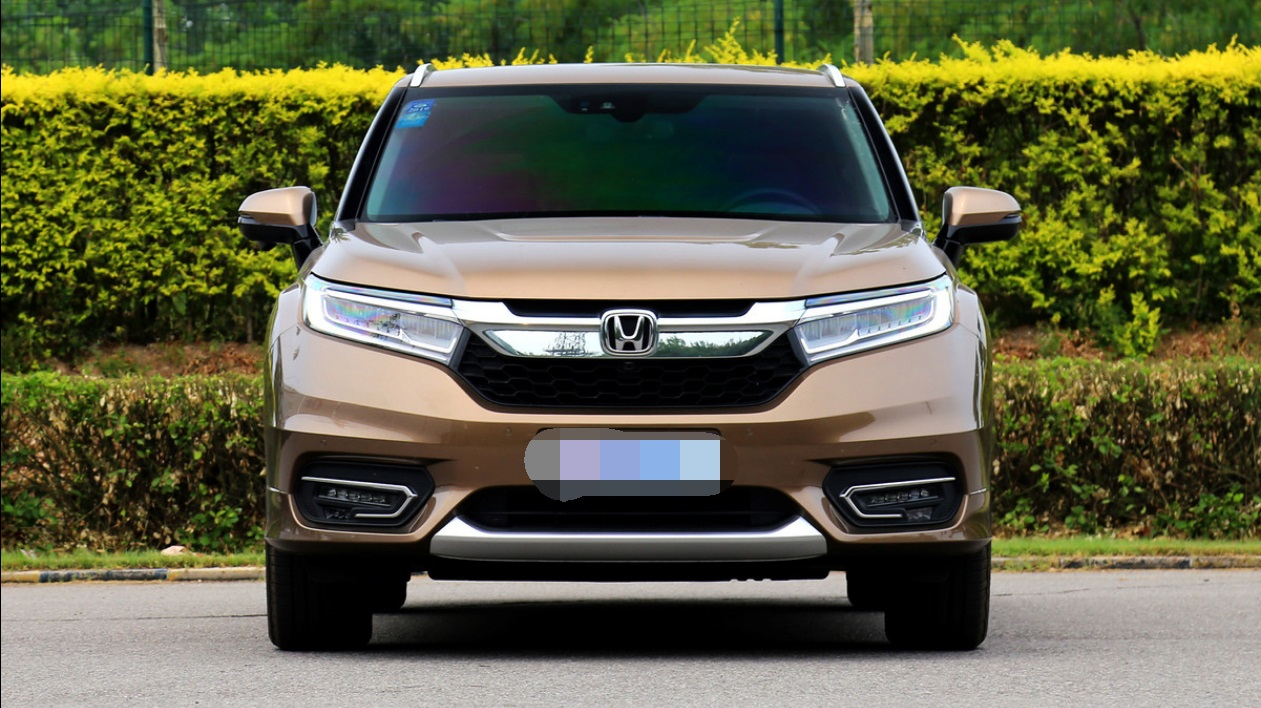SUV: (235, 57, 1032, 659)
